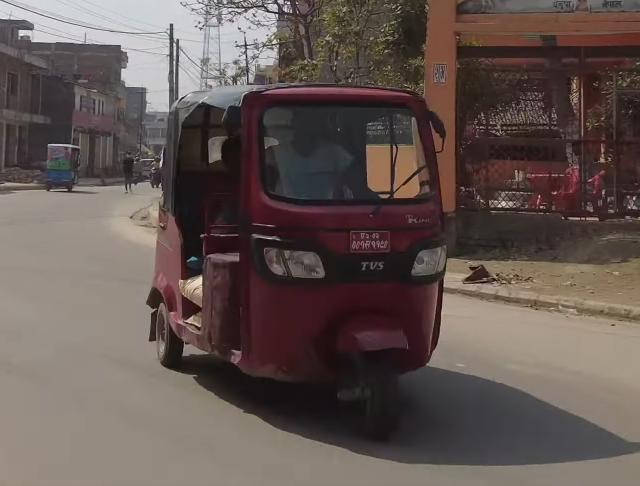auto_rickshaw: (146, 77, 450, 445)
e-rickshaw: (41, 139, 83, 195)
